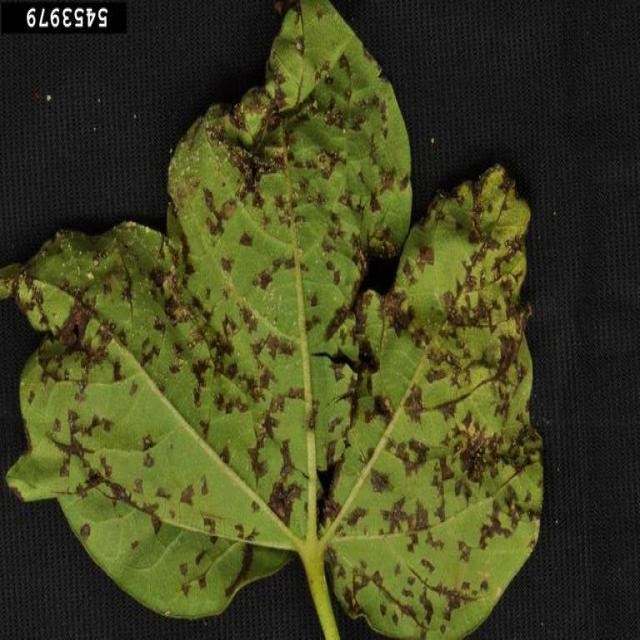Bacterial Blight: (220, 114, 406, 411), (439, 196, 528, 564), (36, 267, 180, 469)
